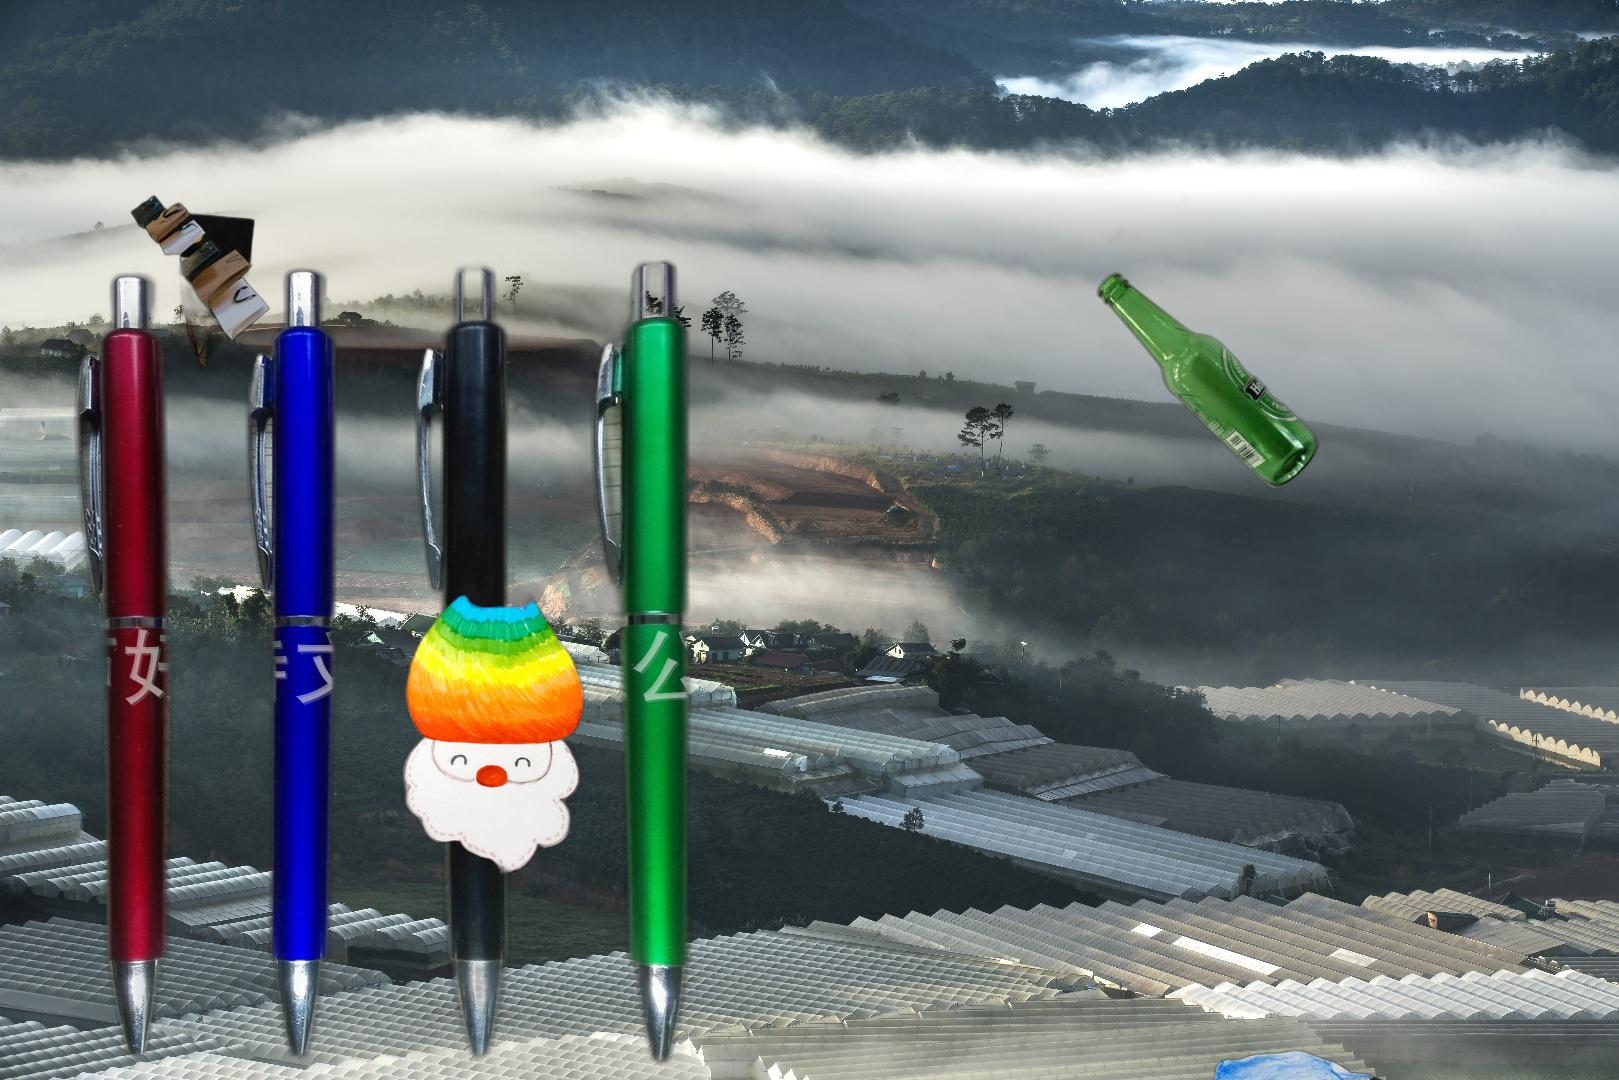glass: (1092, 269, 1322, 492)
paper-bag: (33, 194, 293, 385)
penholder: (66, 252, 698, 1072), (395, 513, 1146, 974)
plastic-bag: (1183, 1047, 1427, 1080)
